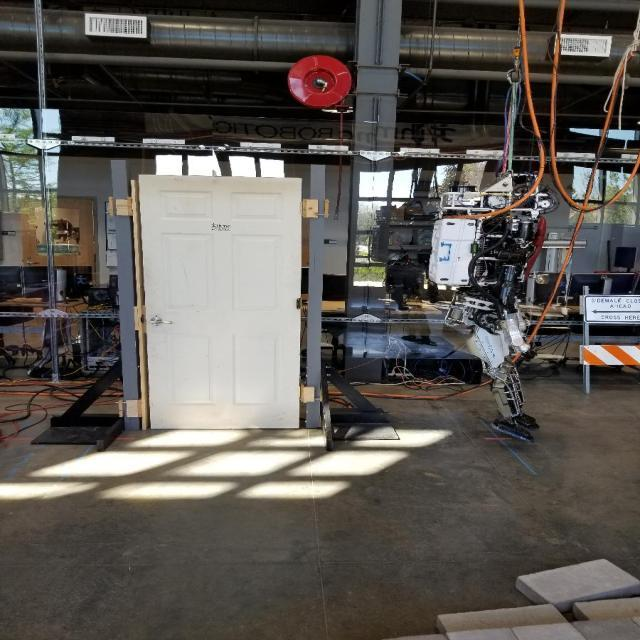door: (132, 172, 305, 432), (149, 315, 177, 328)
